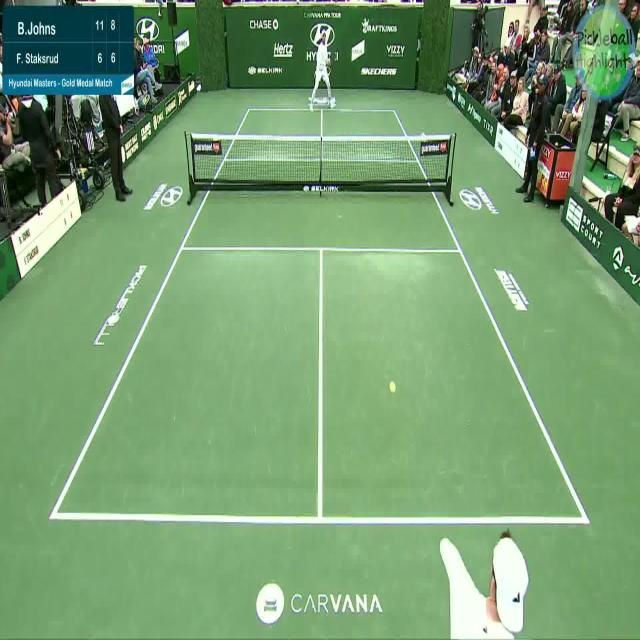ball: (387, 378, 399, 396)
